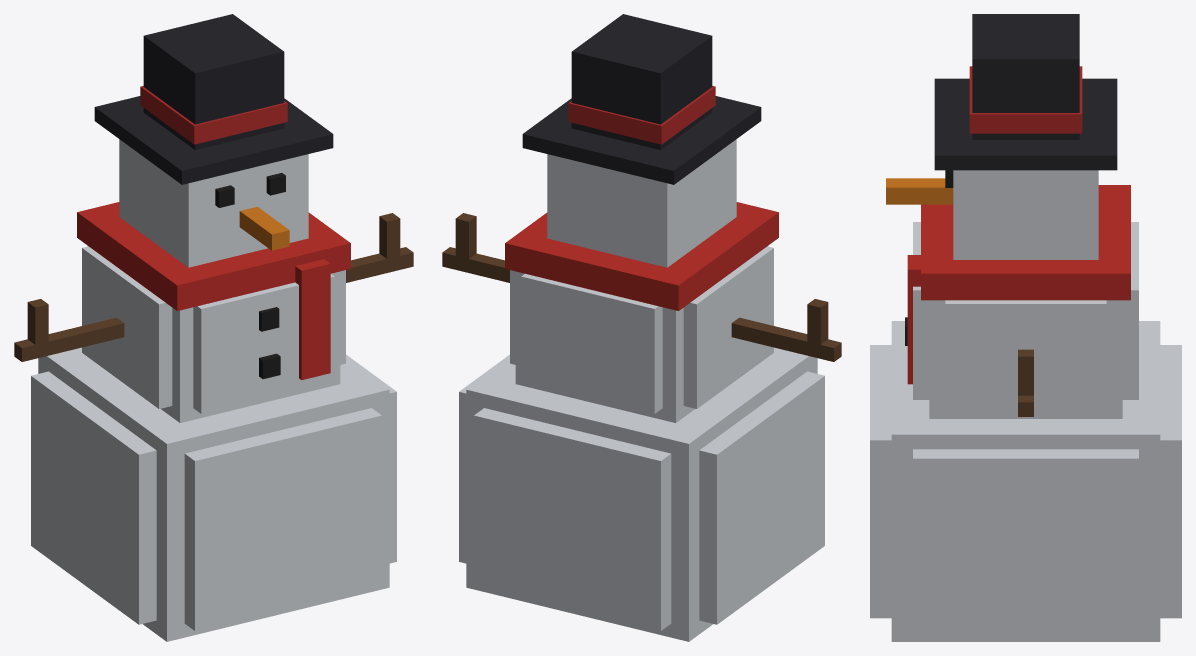
The model's file is ntu-snowman.glb.
The picture shows the model from 3 angles, left to right: view 1: azimuth 30°, elevation 25°; view 2: azimuth 150°, elevation 25°; view 3: azimuth 270°, elevation 25°; orthographic projection. The views are drawn at different scales.
Parts seen in each view (by area): view 1: box-prop; view 2: box-prop; view 3: box-prop.
Part boxes in pixels (<box>): box-prop: <box>14,14,413,641</box>; box-prop: <box>442,14,841,641</box>; box-prop: <box>870,14,1181,641</box>.
Bounding box in the file's own units: 1.76 × 2.25 × 1.16.
